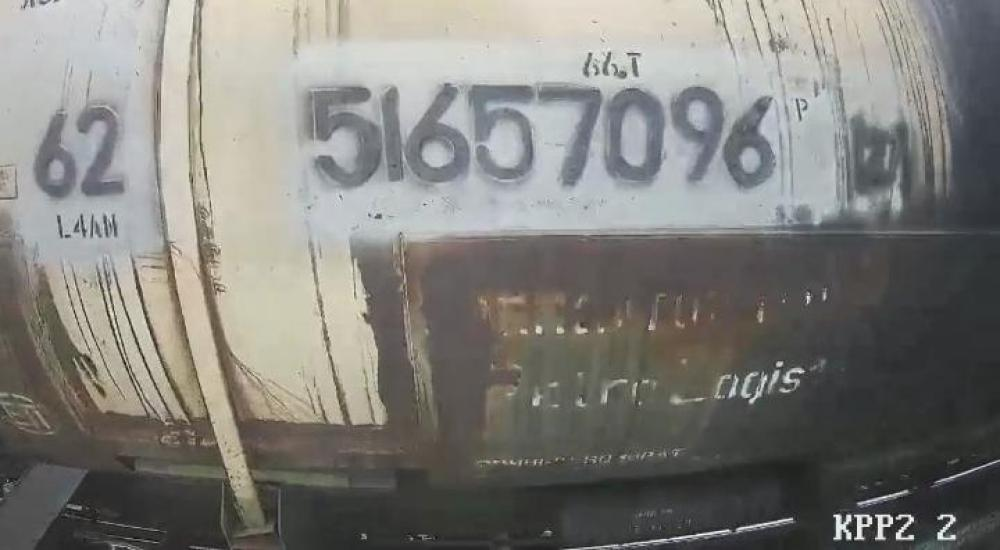Wagon-number: (300, 79, 784, 197)
